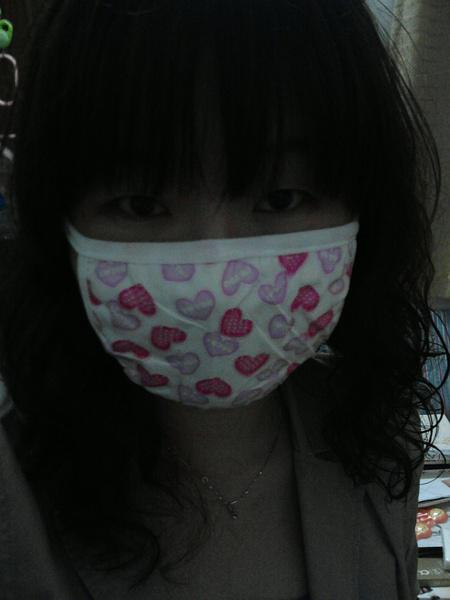OK: (78, 123, 362, 407)
